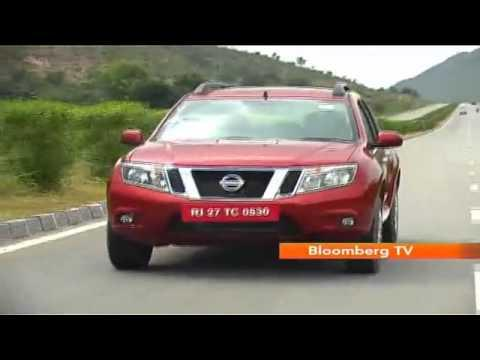License-Plate: (183, 204, 275, 225)
